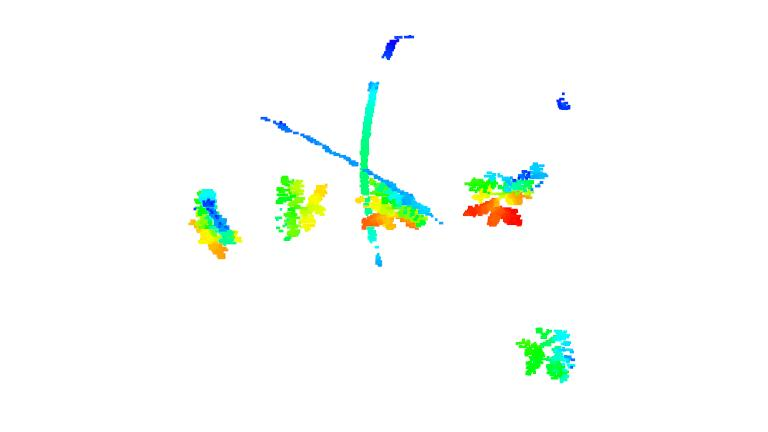chickpea: (462, 160, 551, 227), (269, 170, 332, 243), (186, 186, 249, 258), (361, 176, 437, 232), (516, 325, 577, 386)
